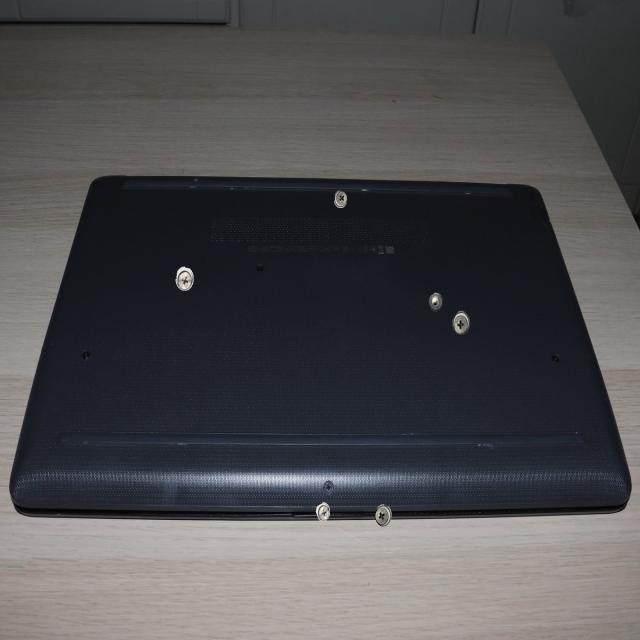lock: (175, 266, 194, 291), (452, 310, 470, 334), (375, 504, 392, 526), (316, 502, 330, 521), (334, 190, 347, 208)
missing_screw: (428, 292, 443, 311)
